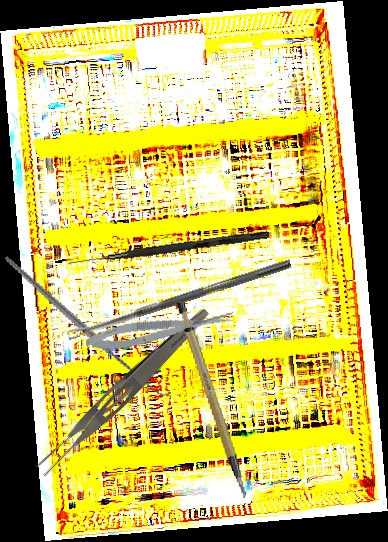Dressing Forceps: (31, 299, 214, 482)
Hook Surgical: (4, 221, 172, 430), (67, 228, 270, 270)
Micro Scissor: (83, 306, 237, 355)
Scalpel Handle: (173, 297, 248, 504)
Surgical Spoon: (66, 258, 292, 340)
